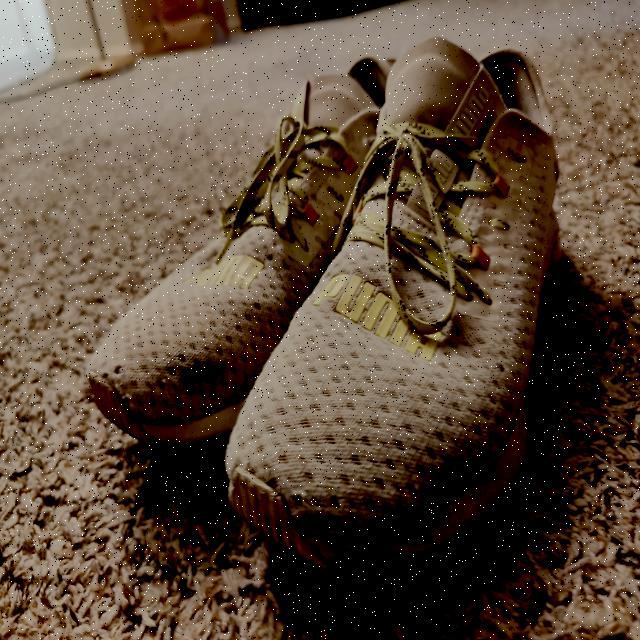white shoes: (89, 54, 560, 569)
